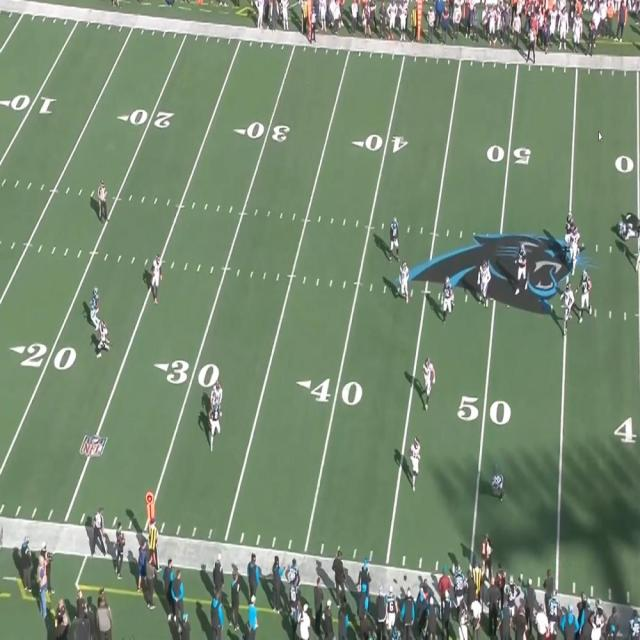db: (150, 257, 162, 304), (412, 436, 423, 486), (99, 318, 111, 352), (212, 379, 222, 416)
lb: (424, 358, 437, 406), (401, 262, 411, 301), (213, 399, 220, 450)
skill: (442, 279, 452, 319), (392, 218, 401, 260), (90, 286, 99, 326), (492, 472, 504, 497)
